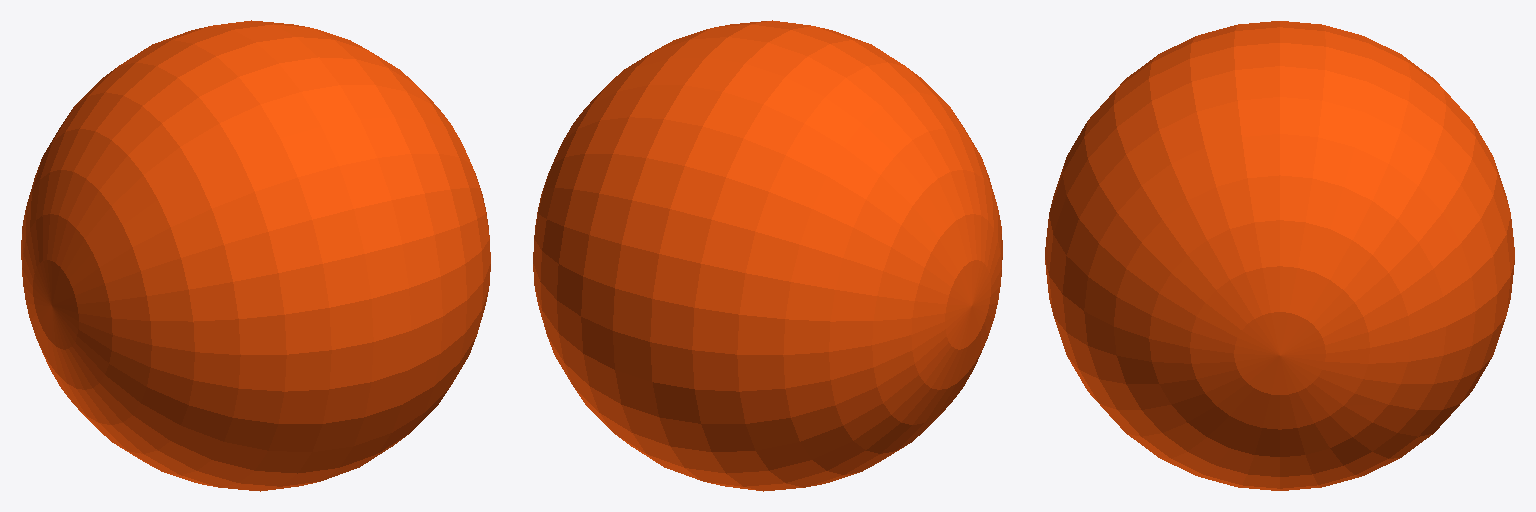
The robot description file, URDF, robot "panda":
<?xml version='1.0' encoding='utf-8'?>
<robot name="panda">

    <link name="link0">
      <inertial>
        <origin xyz="0 0 0.05" rpy="0 0 0" />
        <mass value="4" />
        <inertia ixx="0.4" iyy="0.4" izz="0.4" ixy="0" ixz="0" iyz="0" />
      </inertial>
      <visual>
        <geometry>
          <mesh filename="../../../Model/meshes/visual/link0.obj"/>
        </geometry>
      </visual>
<!--       <collision>
        <geometry>
          <mesh filename="../../../Model/meshes/collision/link0.obj"/>
        </geometry>
      </collision> -->
    </link>
    <link name="link1">
      <inertial>
        <origin xyz="0 0 -0.07" rpy="0 -0 0" />
        <mass value="3" />
        <inertia ixx="0.3" iyy="0.3" izz="0.3" ixy="0" ixz="0" iyz="0" />
      </inertial>
      <visual>
        <geometry>
          <mesh filename="../../../Model/meshes/visual/link1.obj"/>
        </geometry>
      </visual>
      <!-- <collision>
        <geometry>
          <mesh filename="../../../Model/meshes/collision/link1.obj"/>
        </geometry>
      </collision> -->
    </link>
    <link name="link2">
      <inertial>
        <origin xyz="0 -0.1 0" rpy="0 -0 0" />
        <mass value="3" />
        <inertia ixx="0.3" iyy="0.3" izz="0.3" ixy="0" ixz="0" iyz="0" />
      </inertial>
      <visual>
        <geometry>
          <mesh filename="../../../Model/meshes/visual/link2.obj"/>
        </geometry>
      </visual>
      <!-- <collision>
        <geometry>
          <mesh filename="../../../Model/meshes/collision/link2.obj"/>
        </geometry>
      </collision> -->
    </link>
    <link name="link3">
      <inertial>
        <origin xyz="0.04 0 -0.05" rpy="0 -0 0" />
        <mass value="2" />
        <inertia ixx="0.2" iyy="0.2" izz="0.2" ixy="0" ixz="0" iyz="0" />
      </inertial>
      <visual>
        <geometry>
          <mesh filename="../../../Model/meshes/visual/link3.obj"/>
        </geometry>
      </visual>
      <!-- <collision>
        <geometry>
          <mesh filename="../../../Model/meshes/collision/link3.obj"/>
        </geometry>
      </collision> -->
    </link>
    <link name="link4">
      <inertial>
        <origin xyz="-0.04 0.05 0" rpy="0 -0 0" />
        <mass value="2" />
        <inertia ixx="0.2" iyy="0.2" izz="0.2" ixy="0" ixz="0" iyz="0" />
      </inertial>
      <visual>
        <geometry>
          <mesh filename="../../../Model/meshes/visual/link4.obj"/>
        </geometry>
      </visual>
<!--       <collision>
        <geometry>
          <mesh filename="../../../Model/meshes/collision/link4.obj"/>
        </geometry>
      </collision> -->
    </link>
    <link name="link5">
      <inertial>
        <origin xyz="0 0 -0.15" rpy="0 -0 0" />
        <mass value="2" />
        <inertia ixx="0.2" iyy="0.2" izz="0.2" ixy="0" ixz="0" iyz="0" />
      </inertial>
      <visual>
        <geometry>
          <mesh filename="../../../Model/meshes/visual/link5.obj"/>
        </geometry>
      </visual>
<!--       <collision>
        <geometry>
          <mesh filename="../../../Model/meshes/collision/link5.obj"/>
        </geometry>
      </collision> -->
    </link>
    <link name="link6">
      <inertial>
        <origin xyz="0.06 0 0" rpy="0 -0 0" />
        <mass value="1.5" />
        <inertia ixx="0.1" iyy="0.1" izz="0.1" ixy="0" ixz="0" iyz="0" />
      </inertial>
      <visual>
        <geometry>
          <mesh filename="../../../Model/meshes/visual/link6.obj"/>
        </geometry>
      </visual>
      <!-- <collision>
        <geometry>
          <mesh filename="../../../Model/meshes/collision/link6.obj"/>
        </geometry>
      </collision> -->
    </link>
    <link name="link7">
      <inertial>
        <origin xyz="0 0 0.17" rpy="0 -0 0" />
        <mass value="1.8" />
        <inertia ixx="0.09" iyy="0.05" izz="0.07" ixy="0" ixz="0" iyz="0" />
      </inertial>
      <visual>
        <geometry>
          <mesh filename="../../../Model/meshes/visual/link7.obj"/>
        </geometry>
      </visual>
      <!-- <collision>
        <geometry>
          <mesh filename="../../../Model/meshes/collision/link7.obj"/>
        </geometry>
      </collision> -->
    </link>
    <link name="end_effector">
      <inertial>
        <origin xyz="0 0 0" rpy="0 0 0" />
        <mass value="0.5" />
        <inertia ixx="0.05" iyy="0.05" izz="0.05" ixy="0" ixz="0" iyz="0" />
      </inertial>
      <visual>
        <geometry>
          <sphere radius="0.035"/>
        </geometry>
        <material name="material_ee">
            <color rgba="1.00 0.40 0.10 1" />
        </material>
      </visual>
<!--       <collision>
        <geometry>
          <sphere radius="0.035"/>
        </geometry>
      </collision>  -->     
    </link>
    <joint name="joint_fixed" type="fixed">
      <origin rpy="0 0 0" xyz="0 0 0.13"/>
      <parent link="link7"/>
      <child link="end_effector"/>
    </joint>



    <joint name="joint1" type="revolute">
      <safety_controller k_position="100.0" k_velocity="40.0" soft_lower_limit="-2.8973" soft_upper_limit="2.8973"/>
      <origin rpy="0 0 0" xyz="0 0 0.333"/>
      <parent link="link0"/>
      <child link="link1"/>
      <axis xyz="0 0 1"/>
      <calibration falling="-25.0" />
      <limit effort="87" lower="-2.8973" upper="2.8973" velocity="2.1750"/>
    </joint>
    <joint name="joint2" type="revolute">
      <safety_controller k_position="100.0" k_velocity="40.0" soft_lower_limit="-1.7628" soft_upper_limit="1.7628"/>
      <origin rpy="-1.57079632679 0 0" xyz="0 0 0"/>
      <parent link="link1"/>
      <child link="link2"/>
      <axis xyz="0 0 1"/>
      <calibration falling="-45.0" />
      <limit effort="87" lower="-1.7628" upper="1.7628" velocity="2.1750"/>
    </joint>
    <joint name="joint3" type="revolute">
      <safety_controller k_position="100.0" k_velocity="40.0" soft_lower_limit="-2.8973" soft_upper_limit="2.8973"/>
      <origin rpy="1.57079632679 0 0" xyz="0 -0.316 0"/>
      <parent link="link2"/>
      <child link="link3"/>
      <axis xyz="0 0 1"/>
      <limit effort="87" lower="-2.8973" upper="2.8973" velocity="2.1750"/>
    </joint>
    <joint name="joint4" type="revolute">
      <safety_controller k_position="100.0" k_velocity="40.0" soft_lower_limit="-3.0718" soft_upper_limit="-0.0698"/>
      <origin rpy="1.57079632679 0 0" xyz="0.0825 0 0"/>
      <parent link="link3"/>
      <child link="link4"/>
      <axis xyz="0 0 1"/>
      <calibration falling="-135.0" />
      <limit effort="87" lower="-3.0718" upper="-0.0698" velocity="2.1750"/>
    </joint>
    <joint name="joint5" type="revolute">
      <safety_controller k_position="100.0" k_velocity="40.0" soft_lower_limit="-2.8973" soft_upper_limit="2.8973"/>
      <origin rpy="-1.57079632679 0 0" xyz="-0.0825 0.384 0"/>
      <parent link="link4"/>
      <child link="link5"/>
      <axis xyz="0 0 1"/>
      <calibration falling="45.0" />
      <limit effort="12" lower="-2.8973" upper="2.8973" velocity="2.6100"/>
    </joint>
    <joint name="joint6" type="revolute">
      <safety_controller k_position="100.0" k_velocity="40.0" soft_lower_limit="-0.0175" soft_upper_limit="3.7525"/>
      <origin rpy="1.57079632679 0 0" xyz="0 0 0"/>
      <parent link="link5"/>
      <child link="link6"/>
      <axis xyz="0 0 1"/>
      <calibration falling="80.0" />
      <limit effort="12" lower="-0.0175" upper="3.7525" velocity="2.6100"/>
    </joint>
    <joint name="joint7" type="revolute">
      <safety_controller k_position="100.0" k_velocity="40.0" soft_lower_limit="-2.8973" soft_upper_limit="2.8973"/>
      <origin rpy="1.57079632679 0 0" xyz="0.088 0 0"/>
      <parent link="link6"/>
      <child link="link7"/>
      <axis xyz="0 0 1"/>
      <limit effort="12" lower="-2.8973" upper="2.8973" velocity="2.6100"/>
    </joint>
</robot>

--- What the picture shows (computed from the rendered views, not written in the file) ---
The picture shows the robot from 3 angles, left to right: view 1: azimuth 30°, elevation 25°; view 2: azimuth 150°, elevation 25°; view 3: azimuth 270°, elevation 25°; orthographic projection.
Robot: panda — 9 links, 8 joints (7 revolute, 1 fixed); root link link0; default pose: all joints at 0 but 1 set to mid-range because 0 is outside their limits (joint4 = -1.57).
Links seen in each view (by area): view 1: end_effector; view 2: end_effector; view 3: end_effector.
Link boxes in pixels (x1,y1,x2,y2): end_effector: (21,20,490,491); end_effector: (533,20,1002,491); end_effector: (1045,21,1514,490).
Bounding box of the posed robot: 0.07 × 0.07 × 0.07 m (x, y, z).
Geometry: only primitive shapes (box / cylinder / sphere) drawn; not drawn: 8 mesh visuals (reference in a form the renderer does not follow).